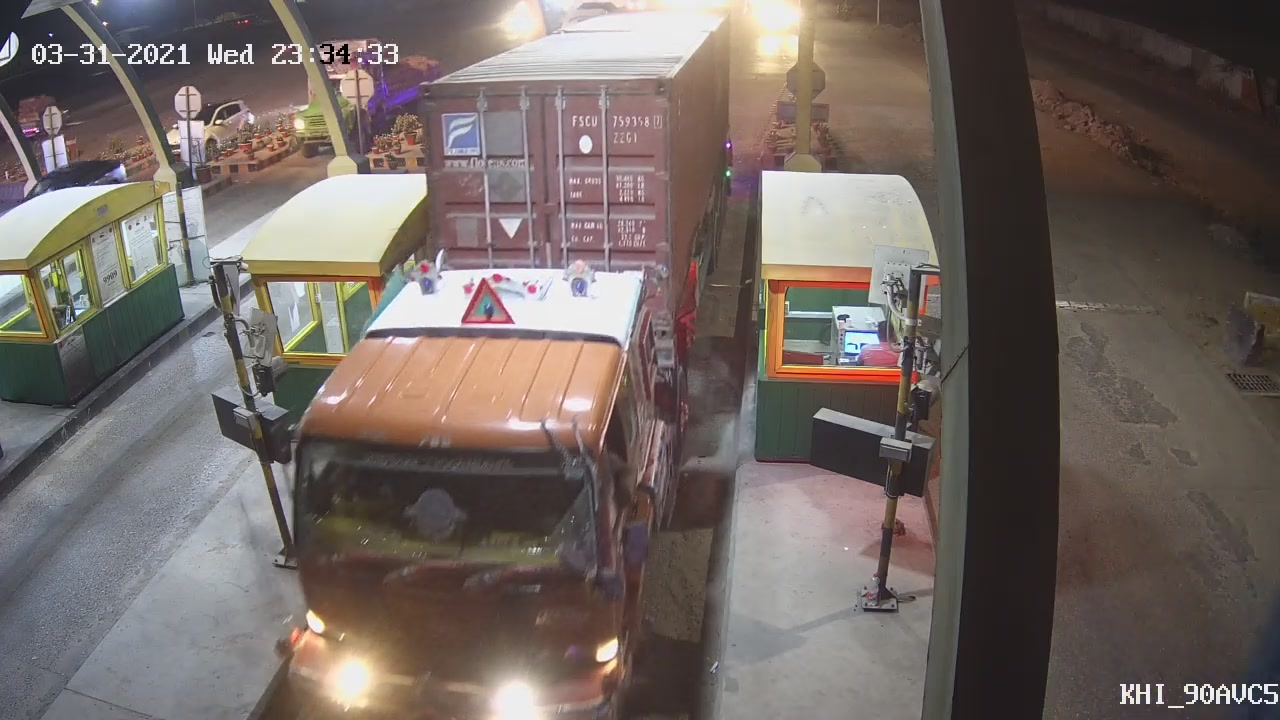F6: (266, 11, 735, 720)
